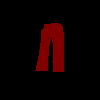pantaloni: (35, 23, 64, 72)
